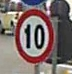limite 10: (13, 9, 54, 63)
